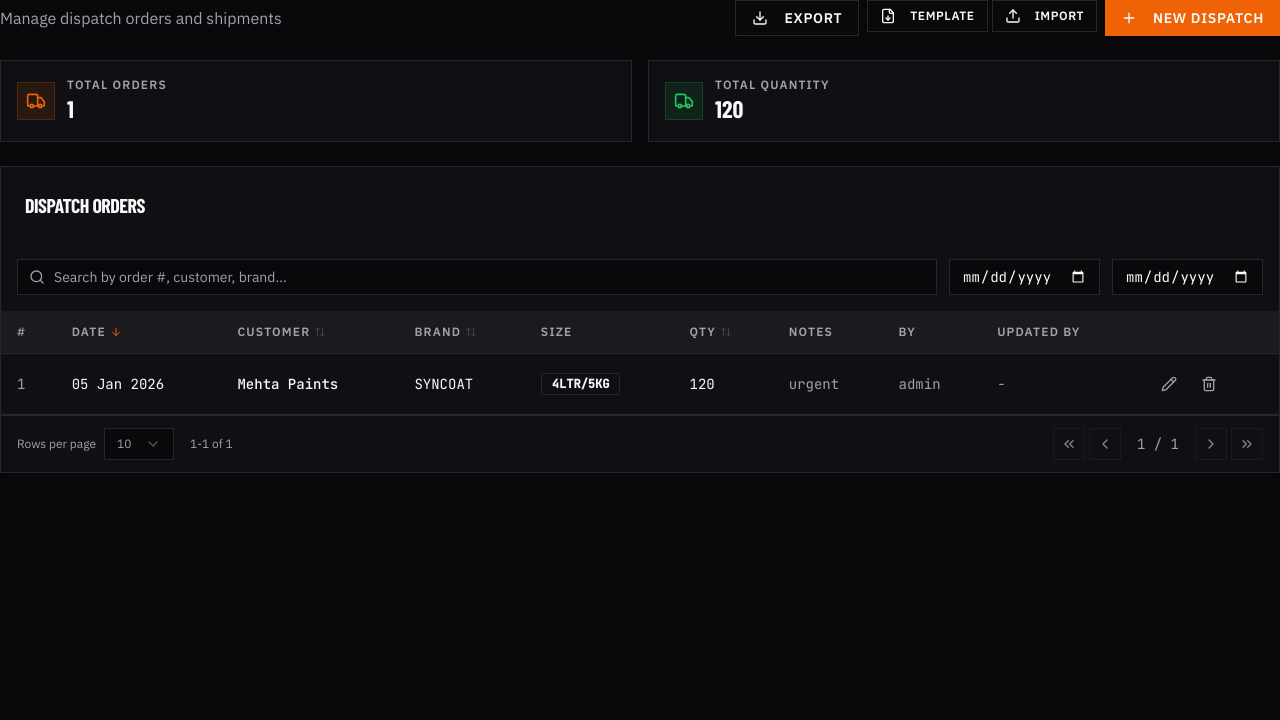
Test: names the missing brand and size when staging an item
The width and height of the screenshot is (1280, 720).
Expected: the table with test id "dispatch-table" is shown, x1=1 y1=311 x2=1279 y2=415
Step 1. Click the button with test id "add-dispatch-btn" → (1192, 18), box x1=1105 y1=0 x2=1279 y2=36
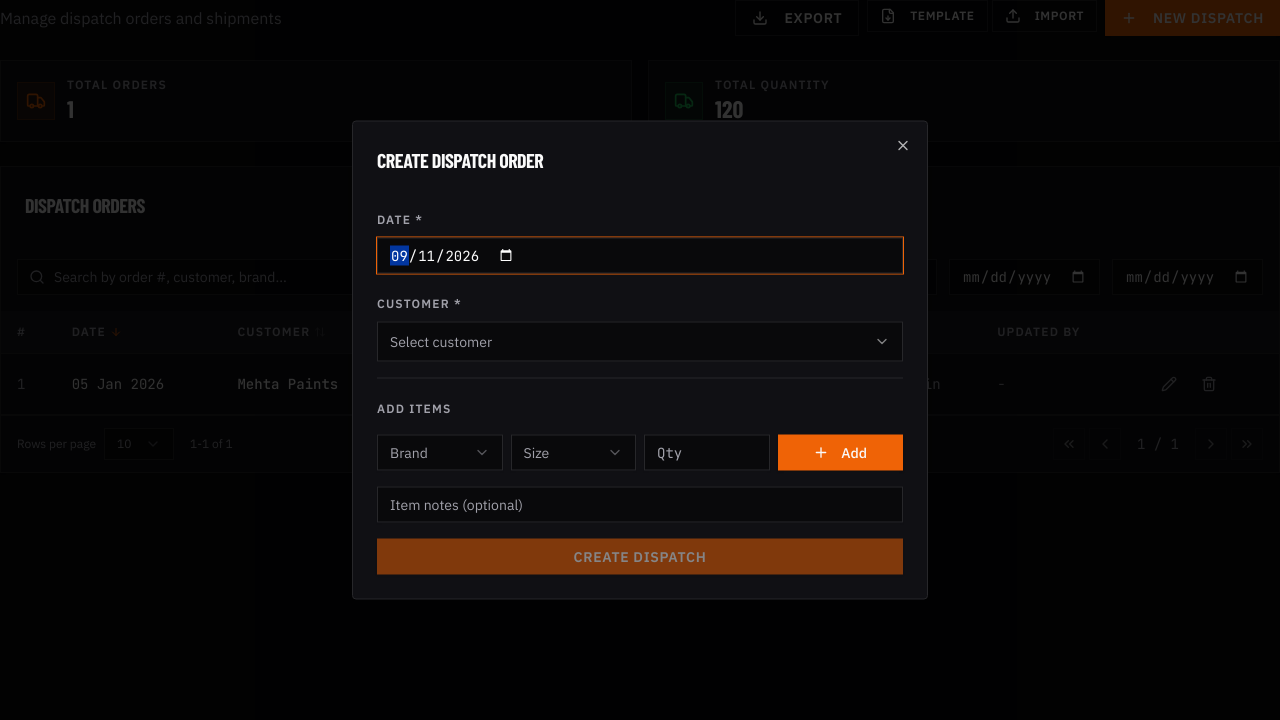
Step 2. Type "10" into the number field with test id "dispatch-quantity" → (707, 452), box x1=644 y1=434 x2=770 y2=470
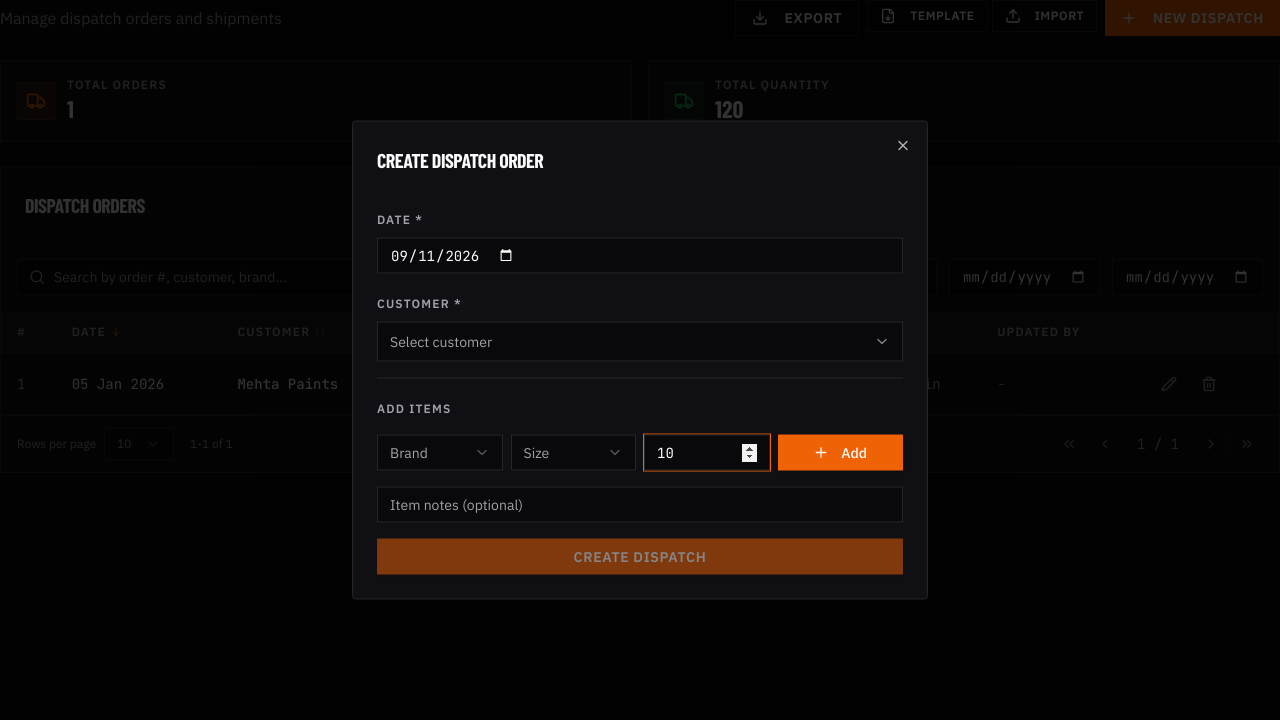
Step 3. Click the button with test id "add-item-btn" → (840, 452), box x1=778 y1=434 x2=903 y2=470
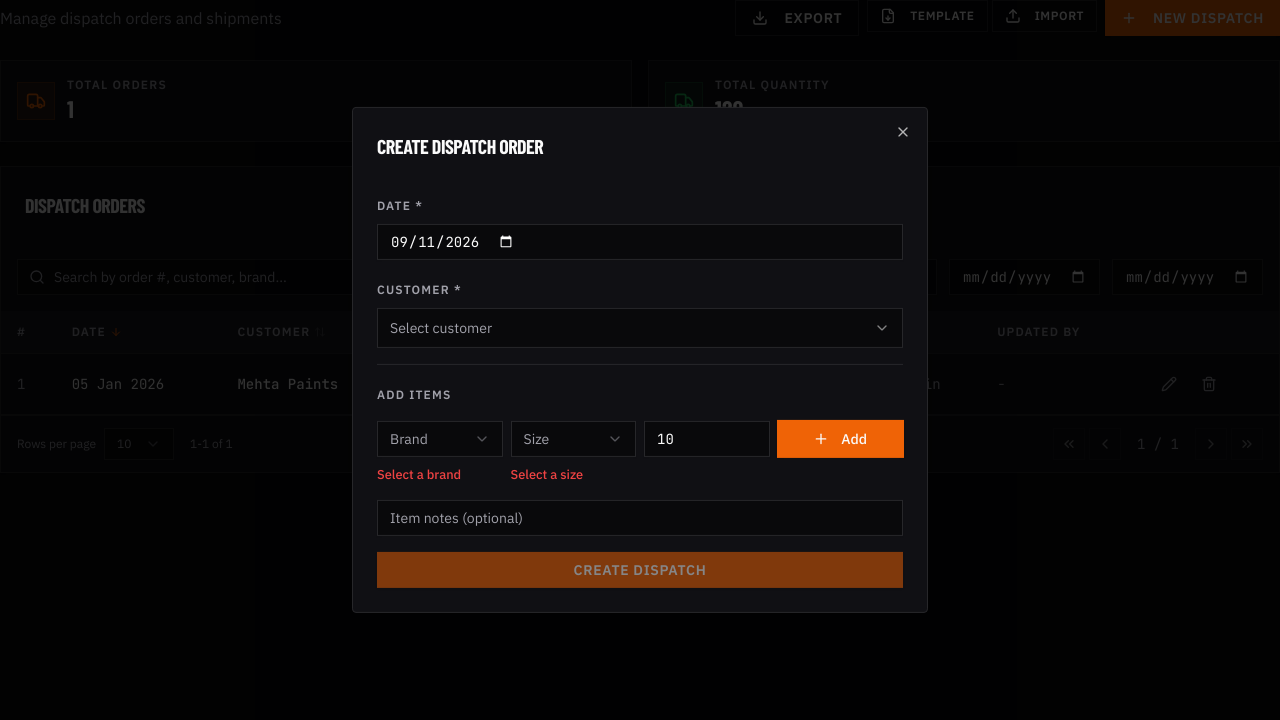
Result: the text "Select a brand" is shown at x1=377 y1=466 x2=461 y2=483
Result: the text "Select a size" is shown at x1=510 y1=466 x2=583 y2=483
